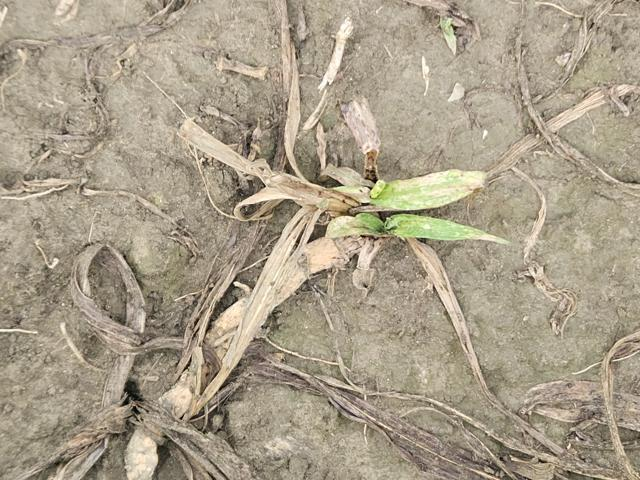bad weed: (204, 133, 515, 258)
